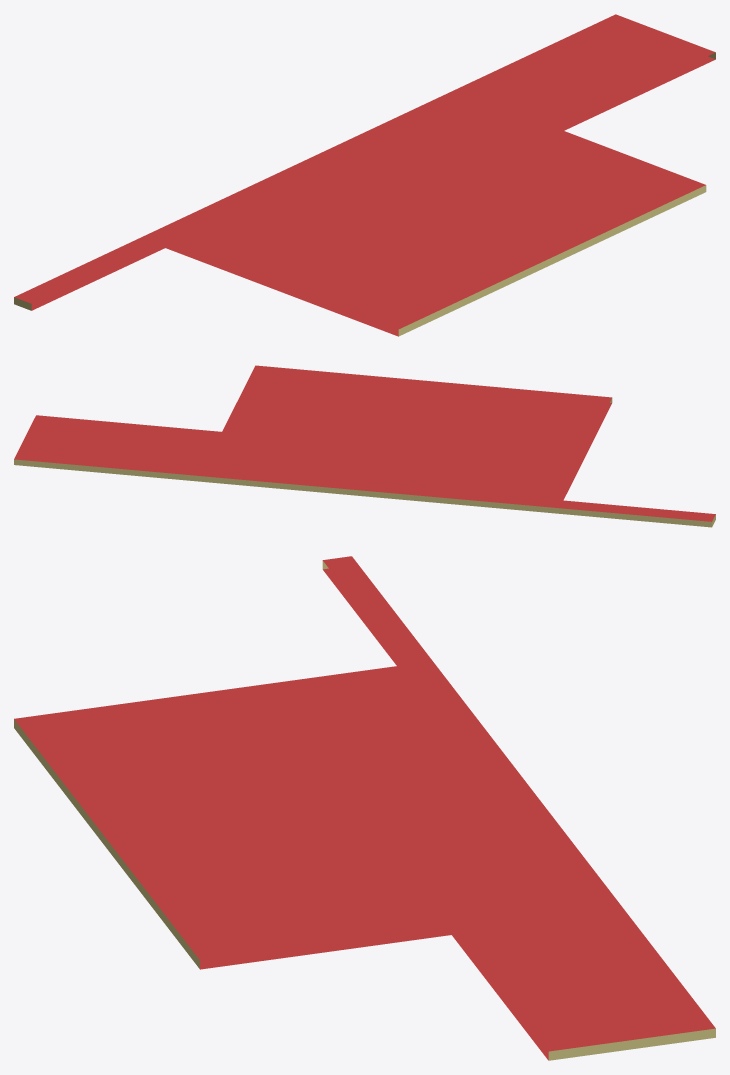
The picture shows the model from 3 angles, top to bottom: view 1: azimuth 30°, elevation 25°; view 2: azimuth 150°, elevation 25°; view 3: azimuth 270°, elevation 25°; orthographic projection. The views are drawn at different scales.
Size of the model in its own units: 11.47 by 6.87 by 0.1.
